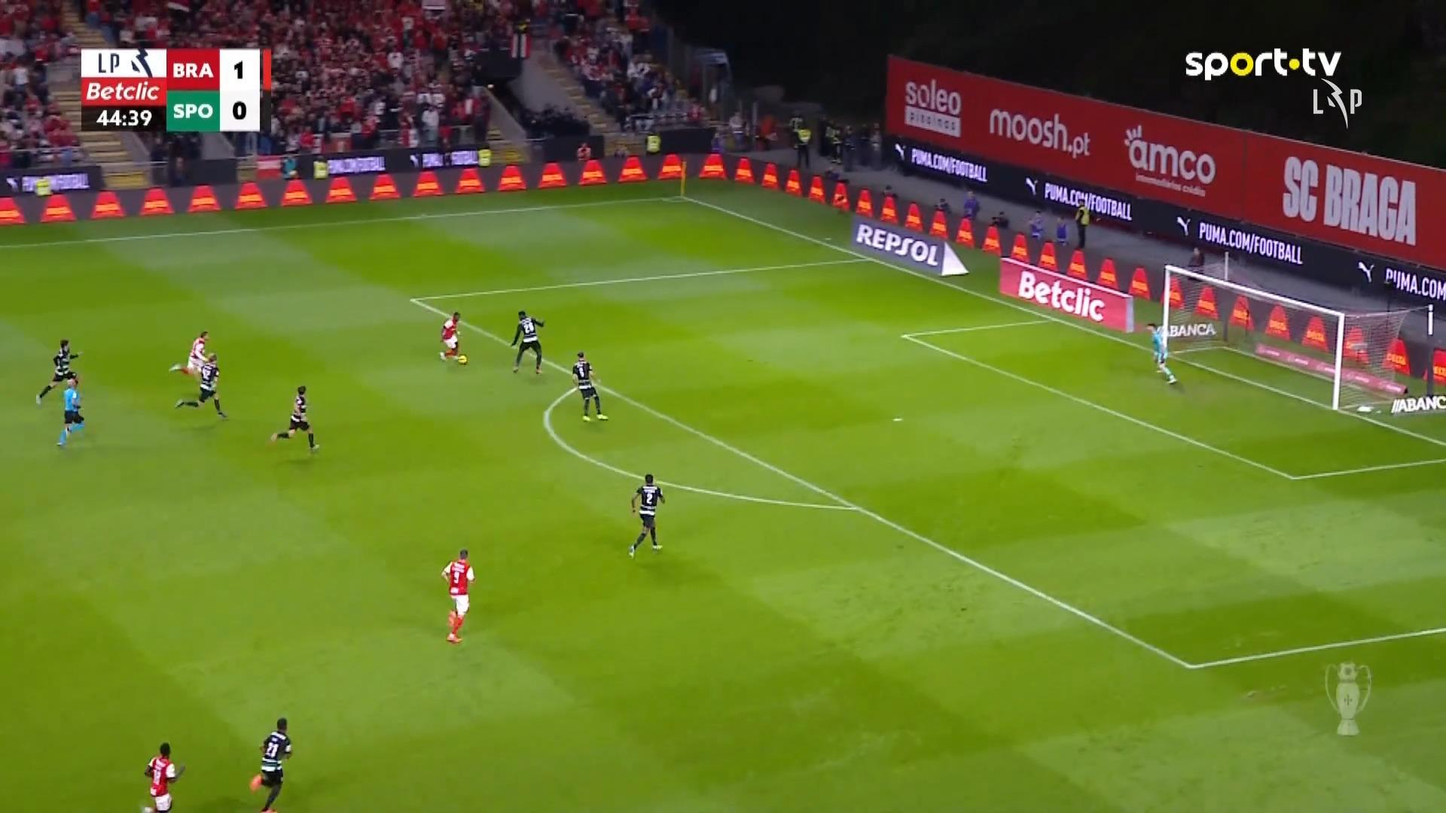ball: (457, 355, 467, 364)
goalkeeper: (1145, 321, 1177, 384)
player: (249, 716, 293, 811), (174, 351, 228, 419), (268, 384, 320, 452), (35, 337, 84, 405), (627, 473, 666, 558), (441, 547, 474, 643), (142, 741, 185, 811), (571, 351, 609, 422), (508, 309, 545, 374), (438, 310, 466, 363), (186, 329, 209, 374)
referee: (55, 373, 86, 446)
